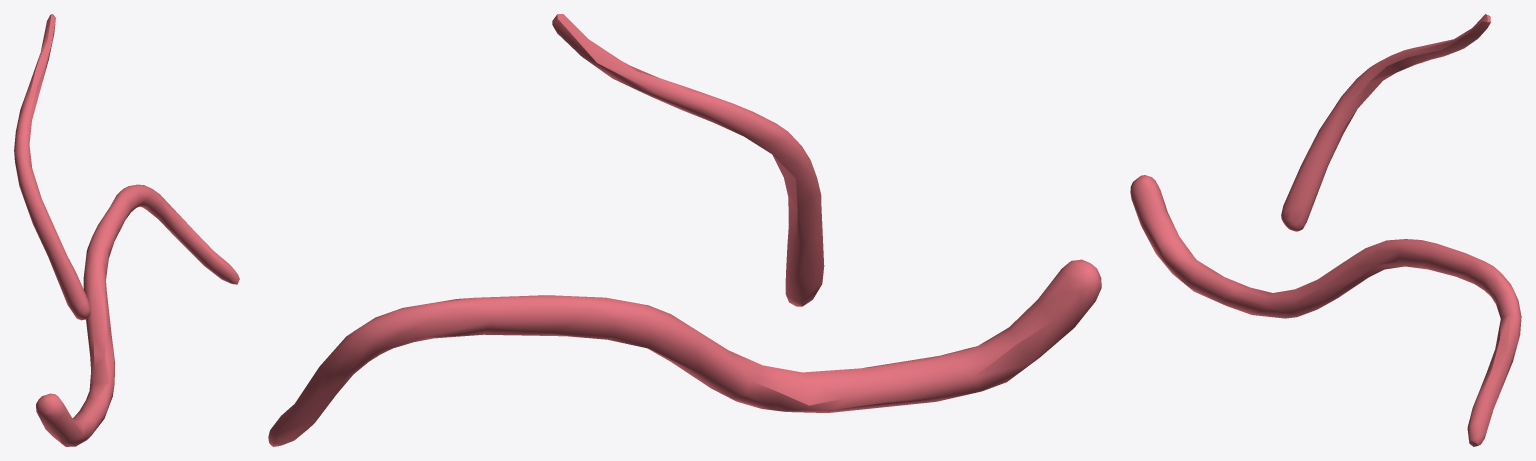
The model's file is fma86349_cx263.glb.
3 views of the same model, side by side, from view 1: azimuth 30°, elevation 25°; view 2: azimuth 150°, elevation 25°; view 3: azimuth 270°, elevation 25° (orthographic). The views are drawn at different scales.
Visible parts, largest first — view 1: FMA86349_CX263; view 2: FMA86349_CX263; view 3: FMA86349_CX263.
Boxes of the visible parts, x1=… form: FMA86349_CX263: x1=14, y1=14, x2=239, y2=446; FMA86349_CX263: x1=268, y1=14, x2=1101, y2=446; FMA86349_CX263: x1=1130, y1=14, x2=1521, y2=446.
Bounding box in the file's own units: 0.0515 × 0.0431 × 0.0454.
